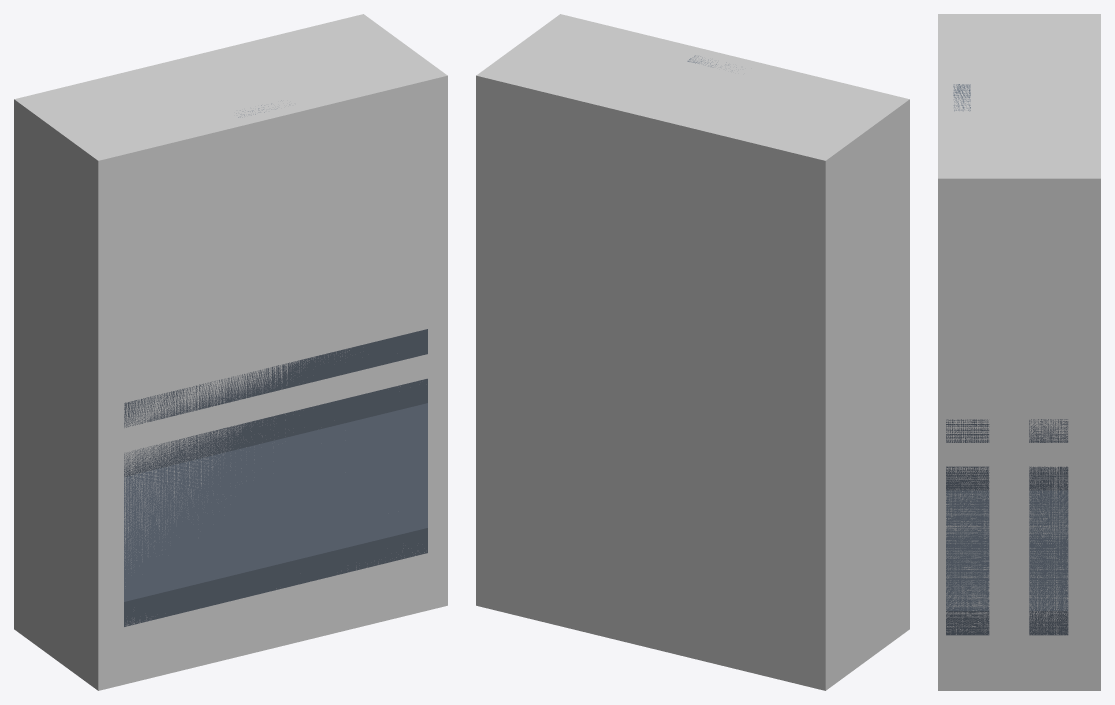
File: CabinLuggage.001.fbx
3 views of the same model, side by side, from view 1: azimuth 30°, elevation 25°; view 2: azimuth 150°, elevation 25°; view 3: azimuth 270°, elevation 25° (orthographic). The views are drawn at different scales.
Parts seen in each view (by area): view 1: CabinLuggage.001_COL0, CabinLuggage.001_LOD0; view 2: CabinLuggage.001_COL0; view 3: CabinLuggage.001_COL0, CabinLuggage.001_LOD0.
Boxes of the visible parts, box(x1,y1,x2,y2) form: CabinLuggage.001_COL0: box(14, 14, 447, 690); CabinLuggage.001_LOD0: box(124, 100, 427, 626); CabinLuggage.001_COL0: box(476, 14, 909, 690); CabinLuggage.001_COL0: box(938, 14, 1100, 690); CabinLuggage.001_LOD0: box(946, 84, 1068, 635).
Size of what is drawn, in the model's own units: 1.25 by 1.81 by 0.5211.
